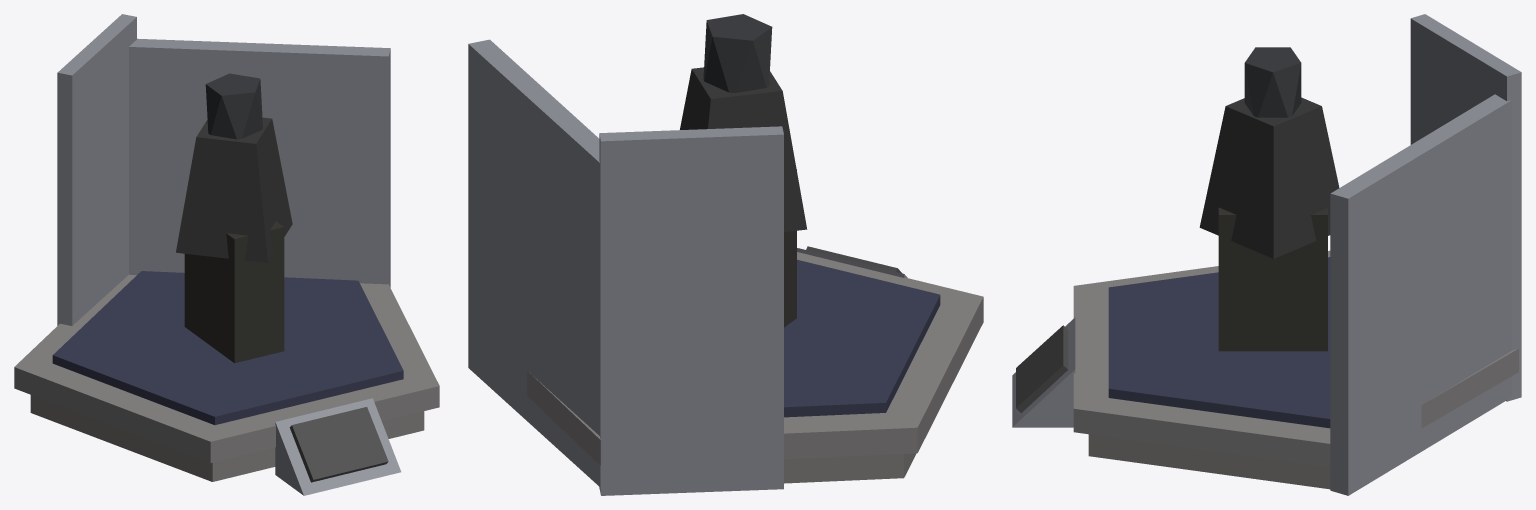
Rendered from statue1.fbx.
3 views of the same model, side by side, from view 1: azimuth 30°, elevation 25°; view 2: azimuth 150°, elevation 25°; view 3: azimuth 270°, elevation 25° (orthographic). The views are drawn at different scales.
Parts seen in each view (by area): view 1: Cube.004, Cylinder.002, Cylinder, Cone, Cube, Cylinder.001, Cube.002, Cube.001, Icosphere; view 2: Cube.004, Cylinder.002, Cylinder, Cone, Icosphere, Cylinder.001, Cube; view 3: Cube.004, Cylinder.002, Cylinder, Cone, Cube, Cylinder.001, Icosphere, Cube.001, Cube.002.
Boxes of the visible parts, x1=… form: Cube.004: x1=57, y1=14, x2=390, y2=325; Cylinder.002: x1=52, y1=271, x2=403, y2=424; Cylinder: x1=14, y1=274, x2=439, y2=462; Cone: x1=176, y1=117, x2=292, y2=262; Cube: x1=184, y1=221, x2=284, y2=363; Cylinder.001: x1=30, y1=395, x2=424, y2=481; Cube.002: x1=289, y1=407, x2=388, y2=482; Cube.001: x1=275, y1=398, x2=401, y2=495; Icosphere: x1=205, y1=73, x2=262, y2=139; Cube.004: x1=468, y1=39, x2=783, y2=495; Cylinder.002: x1=784, y1=259, x2=940, y2=417; Cylinder: x1=527, y1=252, x2=983, y2=465; Cone: x1=680, y1=67, x2=807, y2=231; Icosphere: x1=703, y1=14, x2=772, y2=92; Cylinder.001: x1=784, y1=453, x2=916, y2=483; Cube: x1=784, y1=169, x2=796, y2=327; Cube.004: x1=1330, y1=14, x2=1521, y2=495; Cylinder.002: x1=1108, y1=257, x2=1330, y2=428; Cylinder: x1=1073, y1=250, x2=1518, y2=467; Cone: x1=1199, y1=97, x2=1339, y2=258; Cube: x1=1218, y1=207, x2=1327, y2=351; Cylinder.001: x1=1088, y1=434, x2=1330, y2=489; Icosphere: x1=1244, y1=47, x2=1301, y2=117; Cube.001: x1=1012, y1=317, x2=1075, y2=427; Cube.002: x1=1016, y1=325, x2=1068, y2=413.
Size of the model in its own units: 771 by 613 by 824.
